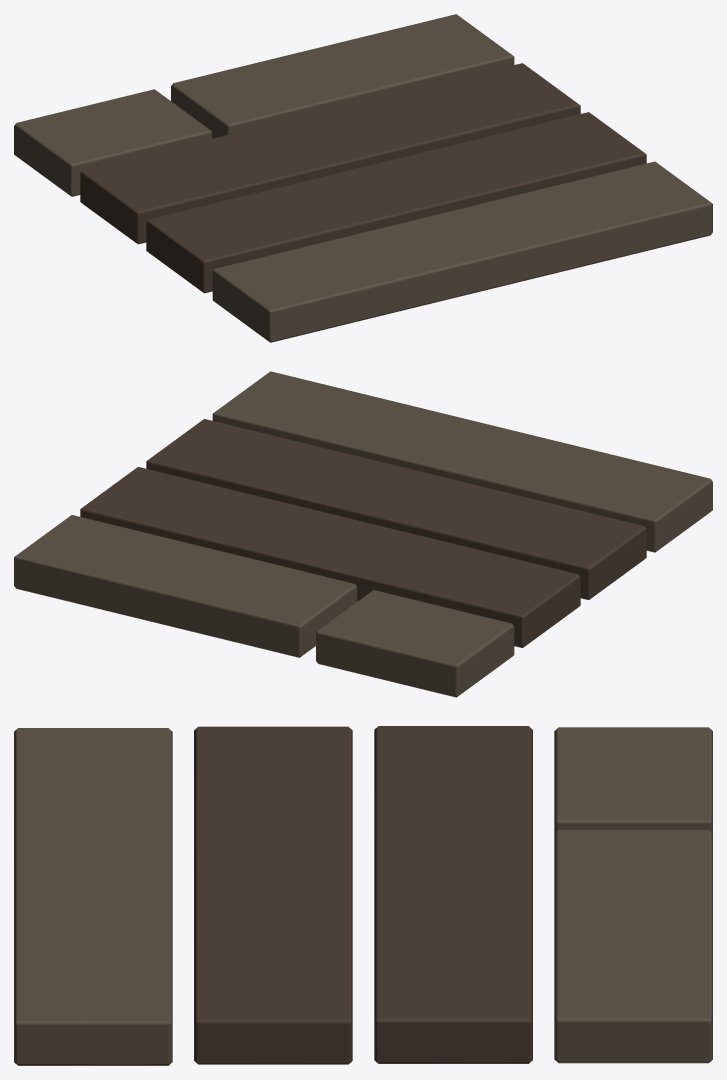
Rendered from ghost-town-boardwalk-b.802c919b.glb.
3 views of the same model, one above another, from view 1: azimuth 30°, elevation 25°; view 2: azimuth 150°, elevation 25°; view 3: azimuth 270°, elevation 25° (orthographic). The views are drawn at different scales.
Visible parts, largest first — view 1: body; view 2: body; view 3: body.
Boxes of the visible parts, left/top/right/bottom form: body: left=14, top=14, right=712, bottom=342; body: left=14, top=371, right=712, bottom=697; body: left=14, top=726, right=712, bottom=1065.
Size of the model in its own units: 0.97 by 0.074 by 0.97.
